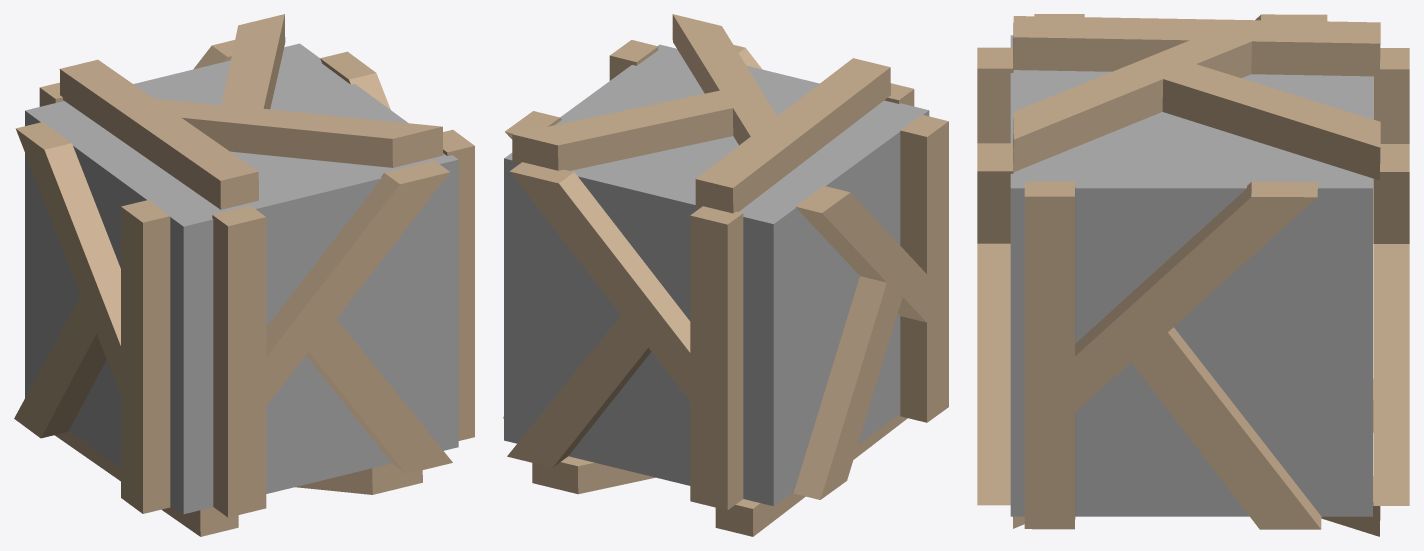
File: LetterK.fbx
3 views of the same model, side by side, from view 1: azimuth 30°, elevation 25°; view 2: azimuth 150°, elevation 25°; view 3: azimuth 270°, elevation 25° (orthographic). The views are drawn at different scales.
Parts seen in each view (by area): view 1: Box, Text Front, Text Left, Text Top, Text Right, Text Bottom, Text Back; view 2: Box, Text Back, Text Left, Text Top, Text Bottom, Text Right, Text Front; view 3: Box, Text Right, Text Top, Text Back, Text Front, Text Bottom, Text Left.
Boxes of the visible parts, x1,y1,x2,y2 form: Box: (25,43,458,514); Text Front: (212,160,452,517); Text Left: (14,122,170,513); Text Top: (59,14,443,209); Text Right: (320,51,474,440); Text Bottom: (55,430,422,536); Text Back: (39,40,234,106); Box: (504,44,929,506); Text Back: (507,162,743,510); Text Left: (793,114,948,499); Text Top: (512,14,890,213); Text Bottom: (532,414,907,536); Text Right: (503,40,658,418); Text Front: (734,45,914,106); Box: (1010,35,1372,516); Text Right: (1024,181,1321,529); Text Top: (1013,16,1380,180); Text Back: (1373,48,1409,505); Text Front: (977,47,1013,505); Text Bottom: (1013,379,1380,536); Text Left: (1034,14,1327,21).
Bounding box in the file's own units: 1.2 × 1.24 × 1.19.
